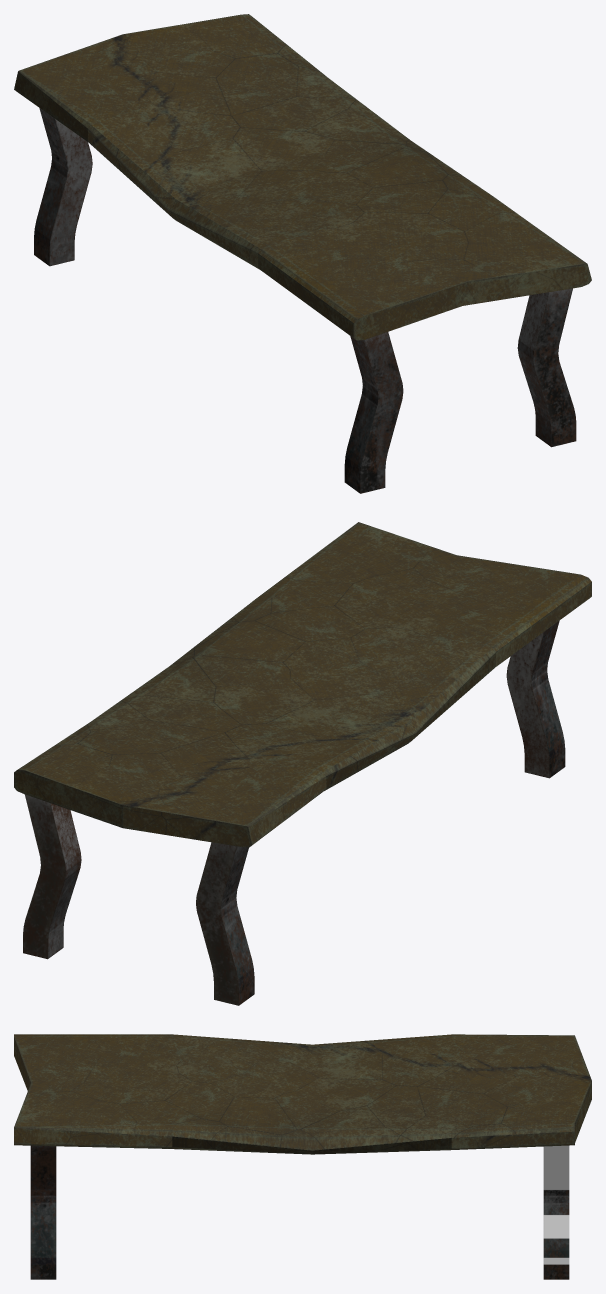
The model's file is Mesa_Comunal.glb.
The picture shows the model from 3 angles, top to bottom: view 1: azimuth 30°, elevation 25°; view 2: azimuth 150°, elevation 25°; view 3: azimuth 270°, elevation 25°; orthographic projection. The views are drawn at different scales.
Parts seen in each view (by area): view 1: Mesa_Comunal.002; view 2: Mesa_Comunal.002; view 3: Mesa_Comunal.002.
Part boxes in pixels (<box>): Mesa_Comunal.002: <box>14,14,591,493</box>; Mesa_Comunal.002: <box>14,522,591,1005</box>; Mesa_Comunal.002: <box>14,1034,591,1279</box>.
Bounding box in the file's own units: 1.45 × 1.02 × 3.47.
Materials: 1 (1 with a texture image).
